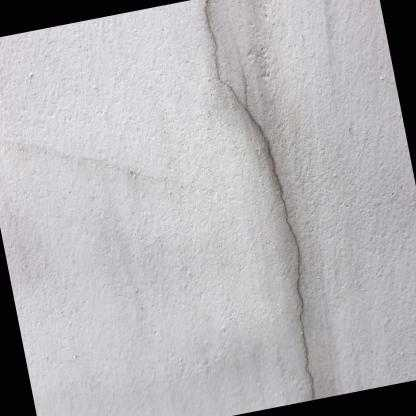crack: (202, 0, 317, 400)
